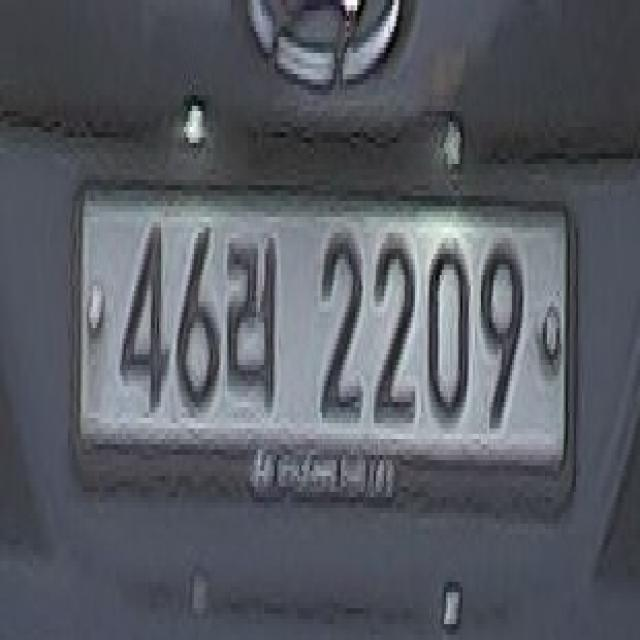0: (426, 237, 473, 436)
2: (312, 224, 367, 426), (370, 226, 422, 435)
4: (112, 214, 173, 418)
6: (176, 216, 224, 426)
9: (476, 237, 528, 436)
leo: (228, 228, 282, 420)
license_plate: (64, 152, 588, 514)
